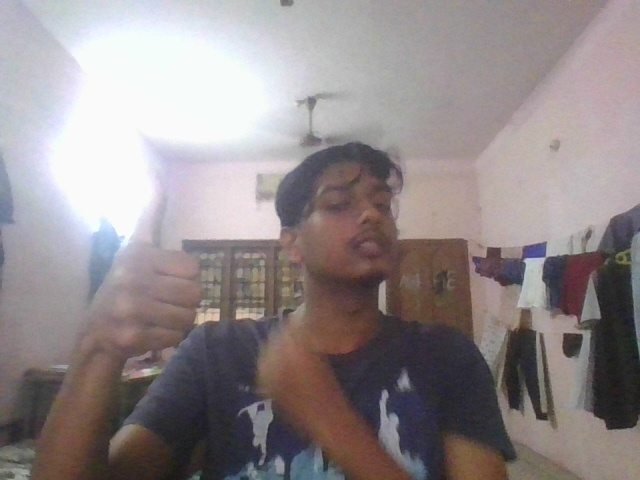thumbsup: (89, 170, 209, 360)
